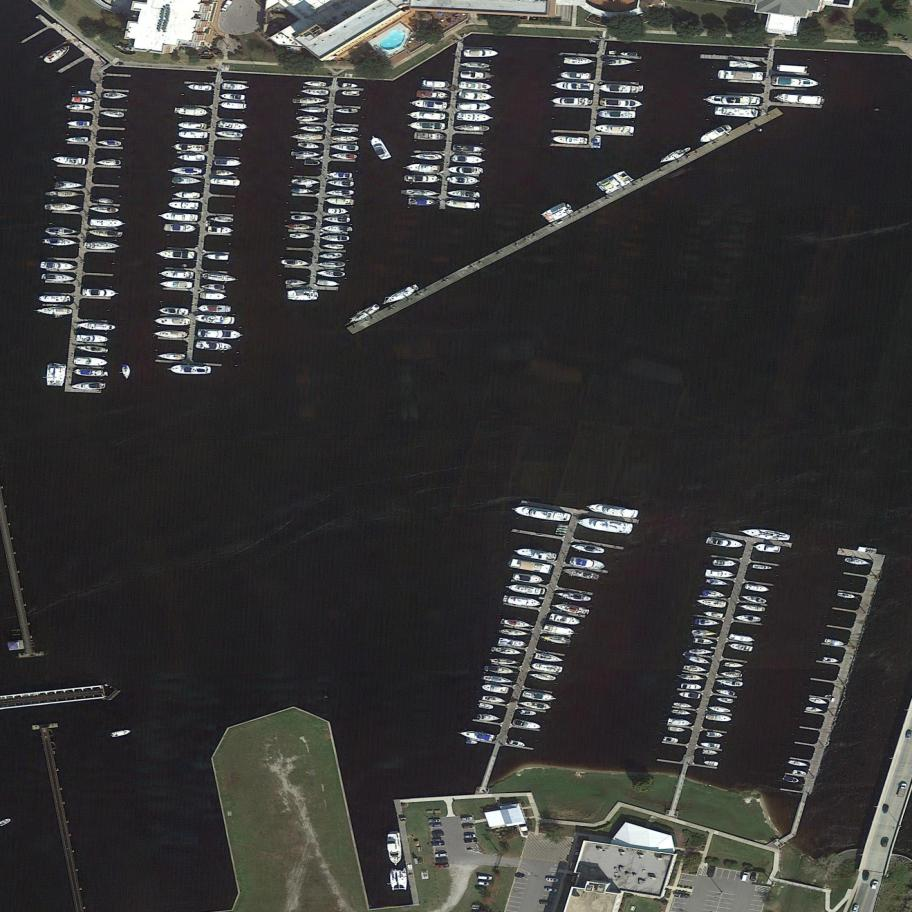ship: (511, 504, 572, 523), (577, 515, 634, 535), (595, 168, 634, 197), (586, 501, 640, 520), (381, 283, 422, 308), (737, 526, 792, 543), (346, 302, 383, 327), (541, 199, 575, 225), (698, 122, 734, 146), (702, 93, 761, 107), (367, 132, 393, 163), (509, 557, 553, 575), (42, 43, 73, 67), (513, 546, 558, 562), (551, 600, 591, 616), (705, 535, 745, 551), (771, 75, 820, 88), (568, 555, 607, 571), (502, 594, 543, 609), (456, 728, 496, 743), (657, 147, 687, 167), (196, 327, 242, 340), (563, 566, 600, 582), (776, 93, 825, 105), (715, 106, 759, 119), (718, 70, 765, 82), (194, 339, 234, 353), (548, 612, 583, 628), (505, 583, 547, 596), (522, 689, 558, 704), (195, 312, 236, 325), (387, 830, 402, 865), (555, 589, 592, 603), (166, 364, 212, 375), (598, 97, 644, 108), (46, 362, 65, 388), (599, 83, 640, 95), (158, 211, 198, 223), (407, 110, 447, 122), (595, 123, 635, 135), (551, 81, 594, 92), (543, 623, 576, 637), (200, 271, 238, 283), (390, 867, 409, 891), (409, 98, 447, 110), (571, 542, 606, 555), (531, 661, 565, 674), (499, 617, 533, 630), (155, 249, 195, 260), (78, 320, 118, 331), (157, 279, 193, 291), (511, 572, 544, 585), (697, 596, 727, 610), (456, 112, 494, 123), (52, 155, 86, 167), (76, 343, 110, 355), (39, 261, 76, 272), (541, 633, 572, 646), (286, 289, 319, 301), (73, 367, 109, 378), (404, 173, 440, 184), (458, 91, 494, 102), (481, 682, 511, 695), (597, 109, 636, 119), (172, 142, 207, 153), (74, 356, 109, 367), (451, 154, 486, 165), (446, 199, 481, 210), (534, 652, 566, 664), (409, 121, 447, 131), (216, 120, 250, 131), (518, 700, 552, 711), (90, 217, 124, 228), (43, 236, 77, 247), (86, 240, 120, 251), (41, 272, 75, 283), (490, 644, 521, 656), (512, 718, 543, 730), (154, 316, 191, 326), (404, 163, 441, 173), (552, 135, 589, 145), (175, 106, 208, 117), (448, 175, 481, 186), (416, 89, 449, 100), (460, 70, 493, 81), (485, 664, 515, 676), (72, 381, 108, 391), (87, 228, 123, 238), (82, 287, 118, 297), (159, 269, 194, 279), (449, 165, 484, 175), (452, 144, 487, 154), (35, 307, 73, 316), (210, 176, 241, 187), (527, 671, 558, 682), (44, 226, 78, 236), (448, 189, 482, 199), (727, 641, 755, 653), (552, 97, 589, 106), (497, 637, 527, 648), (167, 201, 200, 211), (76, 333, 109, 343), (497, 627, 530, 637), (775, 64, 808, 74), (705, 568, 735, 579), (729, 60, 762, 70), (686, 653, 711, 666), (47, 189, 83, 198), (45, 202, 81, 211), (741, 593, 768, 605), (463, 49, 499, 58), (482, 674, 514, 684), (164, 223, 196, 233), (563, 56, 595, 66), (560, 71, 592, 81), (754, 543, 783, 554), (167, 166, 202, 175), (154, 330, 189, 339), (37, 294, 72, 303), (457, 102, 492, 111), (405, 189, 440, 198), (844, 555, 870, 567), (414, 131, 445, 141), (407, 197, 438, 207), (727, 633, 755, 644), (739, 602, 767, 613), (198, 304, 232, 313), (458, 81, 492, 90), (218, 101, 248, 111), (159, 306, 189, 316), (682, 663, 707, 675), (717, 677, 744, 688), (216, 129, 245, 139), (744, 583, 770, 594), (701, 588, 727, 599), (325, 197, 356, 206), (171, 176, 202, 185), (331, 151, 358, 161), (317, 269, 347, 278), (90, 205, 120, 214), (705, 713, 732, 723), (293, 97, 326, 105), (291, 133, 324, 141), (331, 143, 360, 152), (490, 657, 519, 666), (199, 291, 228, 300), (481, 694, 507, 704), (100, 109, 126, 119), (694, 617, 720, 627), (454, 125, 491, 132), (281, 258, 309, 267), (178, 121, 206, 130), (55, 180, 83, 189), (173, 190, 201, 199), (219, 92, 247, 101), (735, 614, 763, 623), (178, 131, 209, 139), (328, 178, 355, 187), (208, 215, 235, 224), (207, 225, 234, 234), (299, 105, 326, 114), (715, 687, 737, 698), (668, 717, 692, 727), (706, 577, 730, 587), (691, 628, 717, 637), (292, 150, 321, 158), (301, 88, 330, 96), (421, 80, 450, 88), (410, 153, 443, 160), (297, 140, 320, 150), (109, 728, 132, 738), (678, 690, 701, 700), (823, 637, 846, 647), (319, 251, 344, 260), (318, 260, 346, 268), (322, 225, 353, 232), (287, 223, 314, 231), (214, 158, 241, 166), (203, 253, 230, 261), (477, 713, 501, 722), (178, 154, 205, 162), (66, 103, 93, 111), (679, 673, 705, 681), (709, 705, 732, 714), (321, 234, 350, 241), (158, 353, 187, 360), (461, 61, 490, 68), (808, 696, 828, 706), (700, 741, 722, 750), (292, 178, 320, 185), (327, 189, 355, 196), (332, 135, 360, 142), (222, 83, 250, 90), (296, 115, 320, 123), (316, 279, 340, 287), (712, 559, 736, 567), (324, 216, 351, 223), (332, 126, 359, 133), (102, 92, 129, 99), (681, 682, 702, 691), (703, 610, 724, 619), (608, 59, 635, 66), (330, 171, 353, 179), (71, 96, 94, 104), (298, 125, 324, 132), (97, 139, 123, 146), (96, 159, 122, 166), (186, 84, 212, 91), (288, 232, 310, 240), (212, 169, 234, 177), (692, 637, 714, 645), (667, 725, 686, 734), (837, 591, 856, 600), (782, 774, 799, 784), (67, 120, 91, 127), (673, 701, 694, 709), (787, 759, 808, 767), (857, 546, 878, 554), (752, 563, 773, 571), (508, 739, 526, 748), (304, 80, 327, 87), (689, 648, 712, 655), (671, 708, 691, 716), (334, 108, 360, 114), (291, 188, 313, 195), (290, 214, 312, 221), (723, 662, 745, 669), (716, 696, 735, 704), (201, 284, 226, 290), (593, 134, 603, 149), (662, 736, 680, 744), (328, 207, 348, 214), (66, 137, 89, 143), (720, 671, 743, 677), (521, 709, 538, 717), (478, 702, 495, 710), (702, 749, 719, 757), (703, 759, 720, 767), (122, 364, 131, 379), (322, 243, 344, 249), (285, 279, 306, 285), (706, 731, 724, 738), (806, 706, 824, 713), (342, 90, 361, 96), (792, 769, 808, 776), (823, 657, 839, 664), (621, 51, 639, 57), (97, 198, 114, 204), (304, 160, 320, 166), (77, 90, 94, 95), (343, 83, 358, 88), (466, 739, 478, 745)
small-vehicle: (897, 782, 909, 799), (707, 865, 716, 878), (741, 871, 750, 884), (429, 822, 443, 829), (476, 875, 492, 881), (435, 863, 450, 869), (871, 880, 879, 891), (862, 870, 870, 881), (432, 841, 446, 847), (540, 900, 554, 906), (465, 838, 479, 844), (464, 833, 478, 839), (462, 824, 476, 830), (436, 858, 449, 864), (546, 877, 559, 883), (546, 887, 559, 893), (750, 872, 757, 883), (882, 837, 889, 848), (882, 804, 889, 814), (428, 818, 442, 823), (460, 816, 474, 821), (477, 881, 490, 886), (436, 853, 449, 858), (432, 837, 443, 841), (432, 833, 443, 837)
